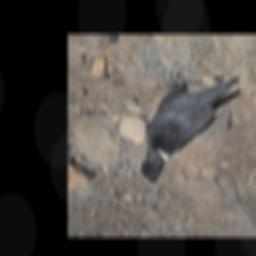Crow: (137, 57, 243, 183)
